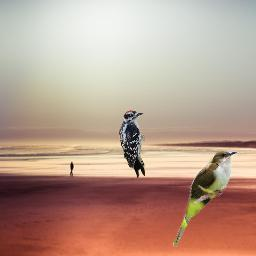Cuckoo: (172, 150, 238, 247)
Woodpecker: (118, 110, 145, 178)
